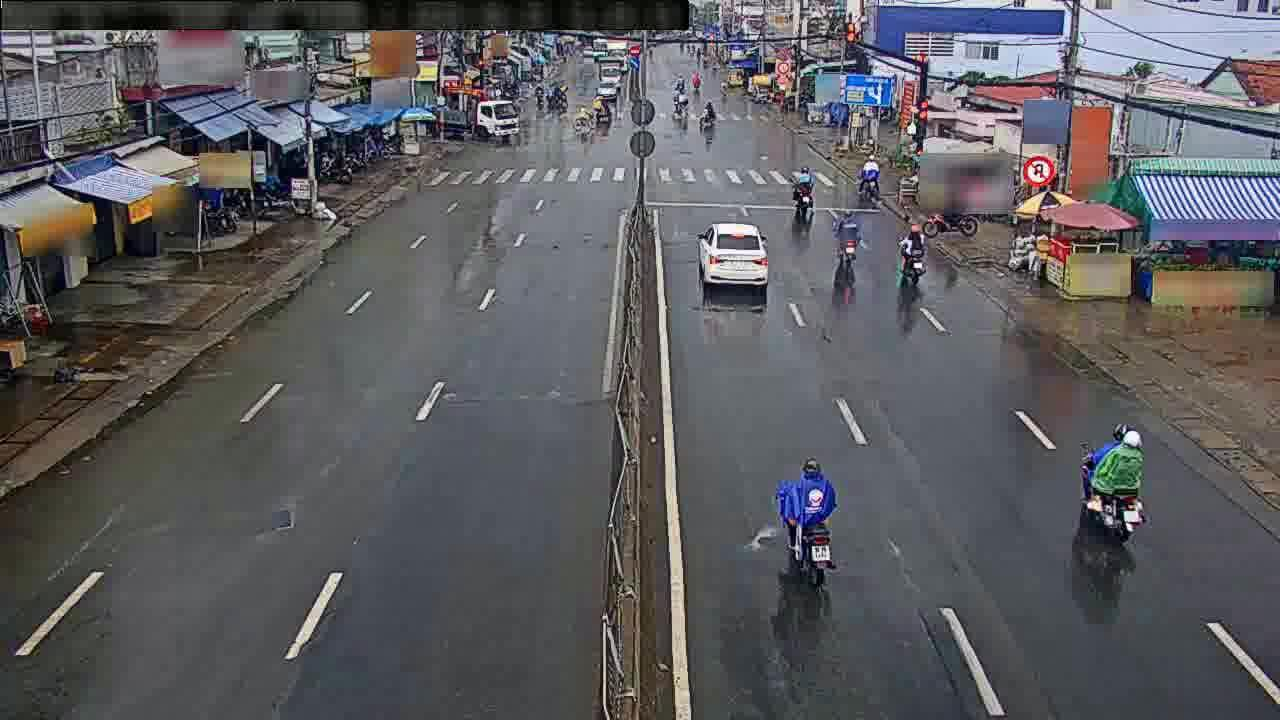container: (692, 220, 768, 294)
motorbike: (1071, 422, 1152, 548), (773, 447, 841, 570), (896, 222, 930, 283), (786, 163, 827, 211), (835, 212, 858, 266), (859, 156, 885, 194)
